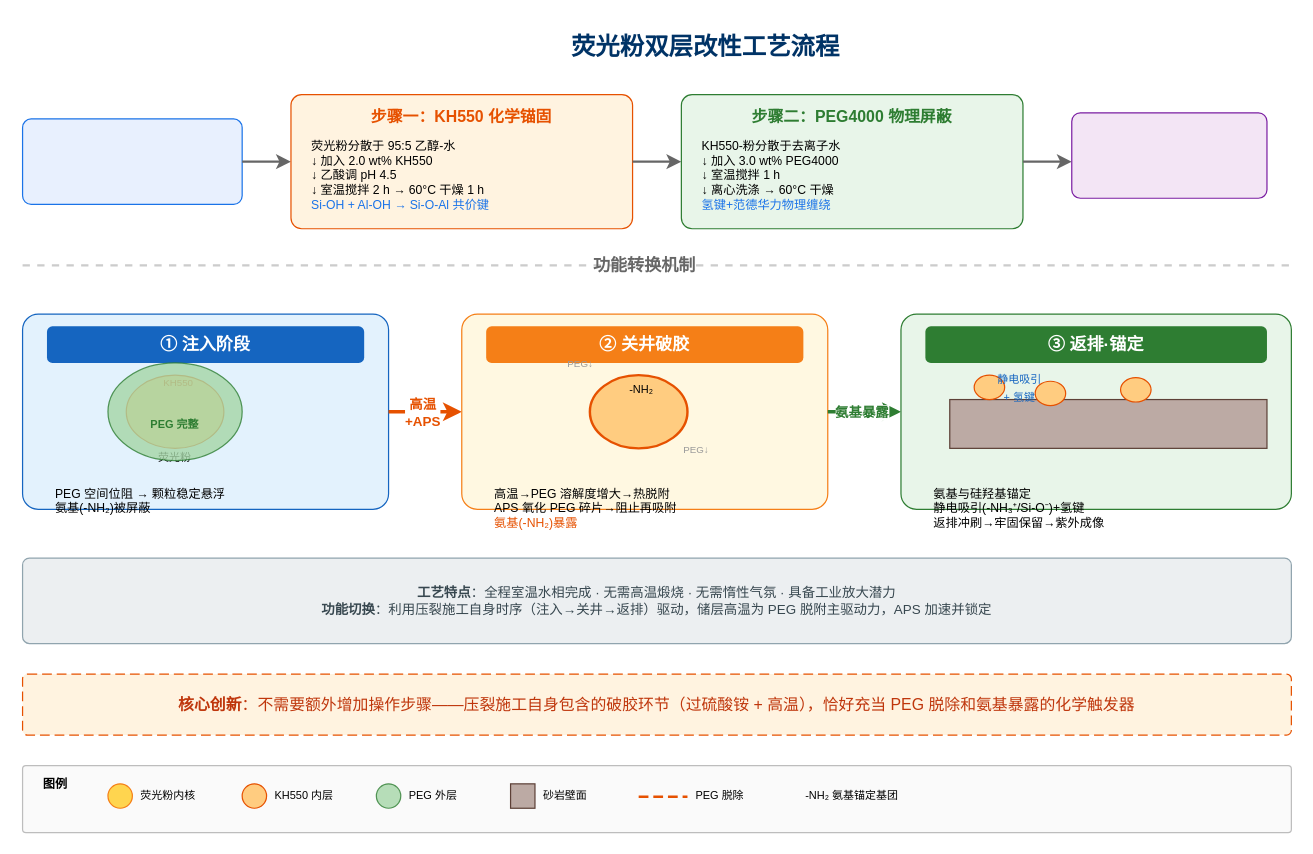
Some shapes in this 1313 by 854 pixel diagram are drawn without their labels. Each missing label, with the centre of its shape:
"原材料 SrAl₂O₄:Eu²⁺,Dy³⁺ 600 目荧光粉" belongs at point 131,161.
"改性荧光粉 KH550(内)·PEG(外) 双层包覆" belongs at point 1169,155.
"砂岩壁面 (Si-OH)" belongs at point 1108,423.
